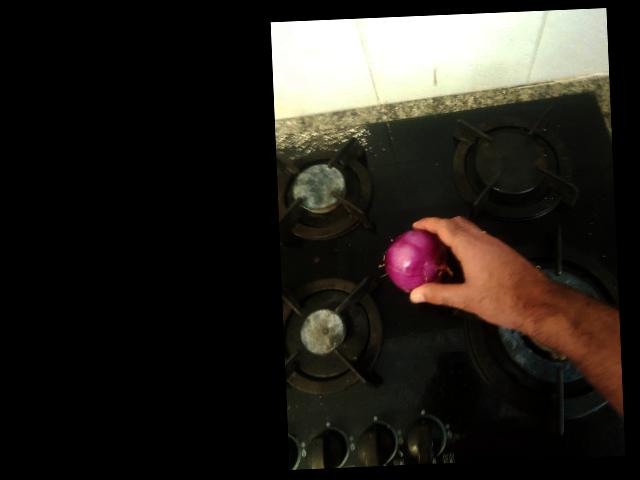onion: (327, 127, 400, 192)
